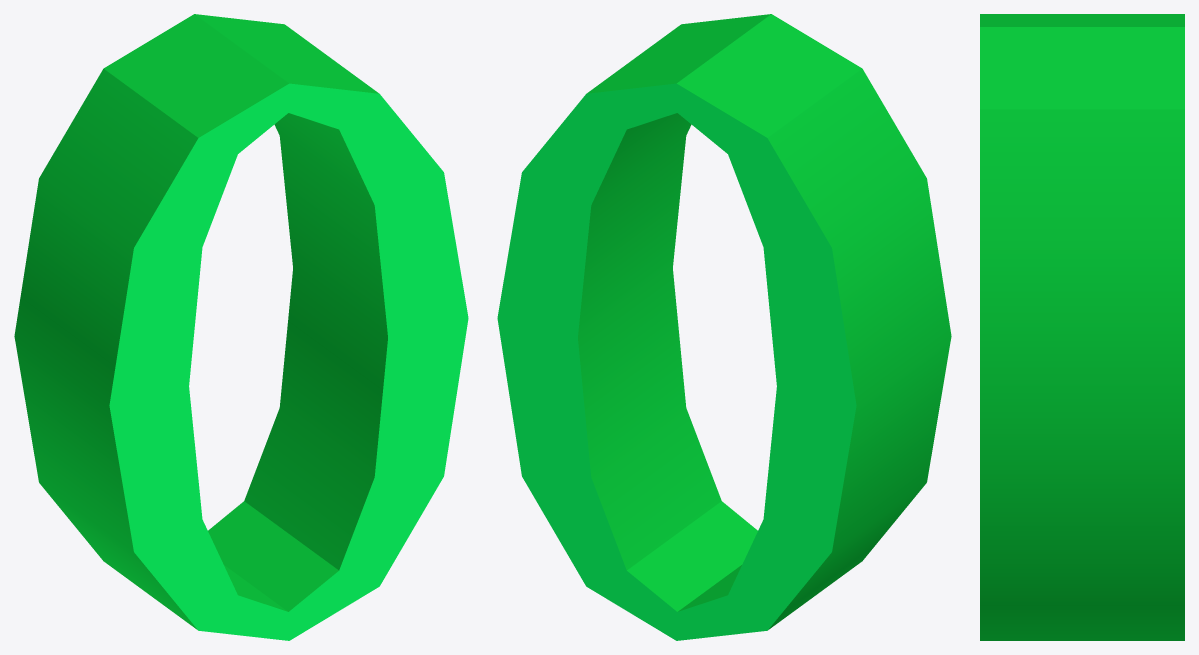
The model's file is 1b7422bb-0513-4d78-9713-339ebf78f740.glb.
3 views of the same model, side by side, from view 1: azimuth 30°, elevation 25°; view 2: azimuth 150°, elevation 25°; view 3: azimuth 270°, elevation 25° (orthographic). The views are drawn at different scales.
Parts seen in each view (by area): view 1: 0_Soul_Green; view 2: 0_Soul_Green; view 3: 0_Soul_Green.
Boxes of the visible parts, x1,y1,x2,y2 form: 0_Soul_Green: (14,14,468,640); 0_Soul_Green: (497,14,951,640); 0_Soul_Green: (980,14,1184,640).
Size of what is drawn, in the model's own units: 0.0982 by 0.1457 by 0.045.
2 materials, 2 textured.
